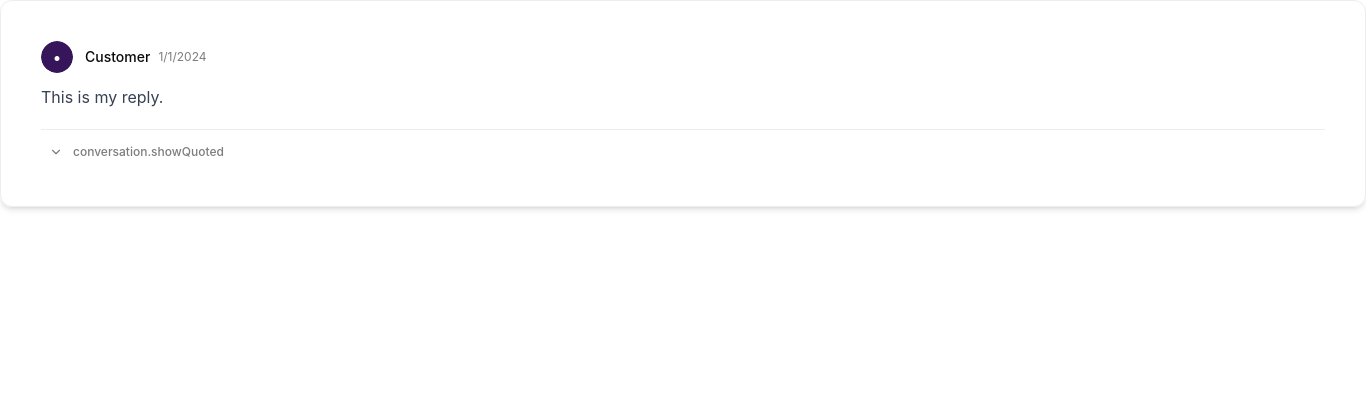
MessageItem - Quoted Text Collapse › toggle shows and hides quoted content
Expected: the text "original message" is not shown
# Click to show quoted content
Click the button "conversation.showQuoted": x=136, y=152 x1=41 y1=138 x2=232 y2=166
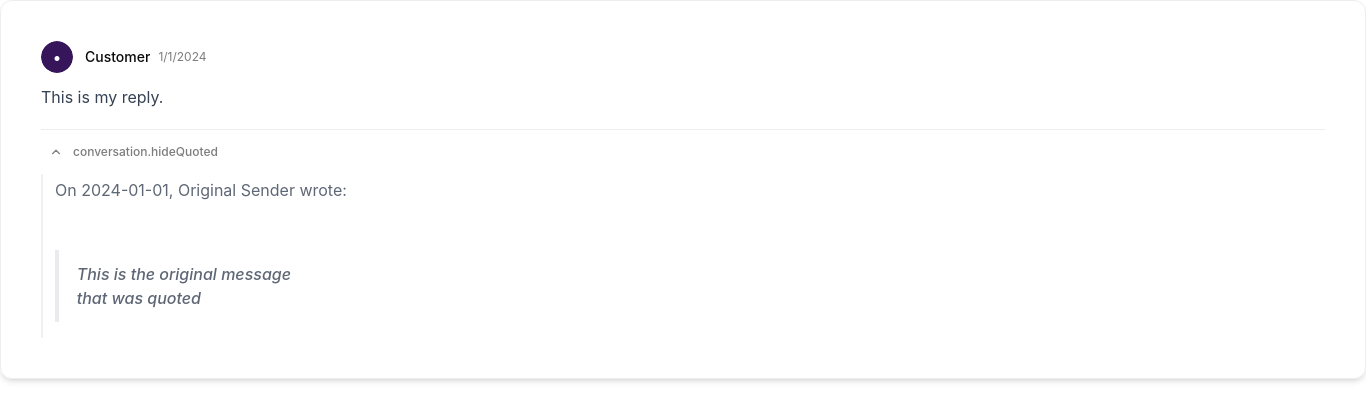
Expected: the button "conversation.hideQuoted" is shown
# Click again to hide
Click the button "conversation.hideQuoted": x=133, y=152 x1=41 y1=138 x2=226 y2=166
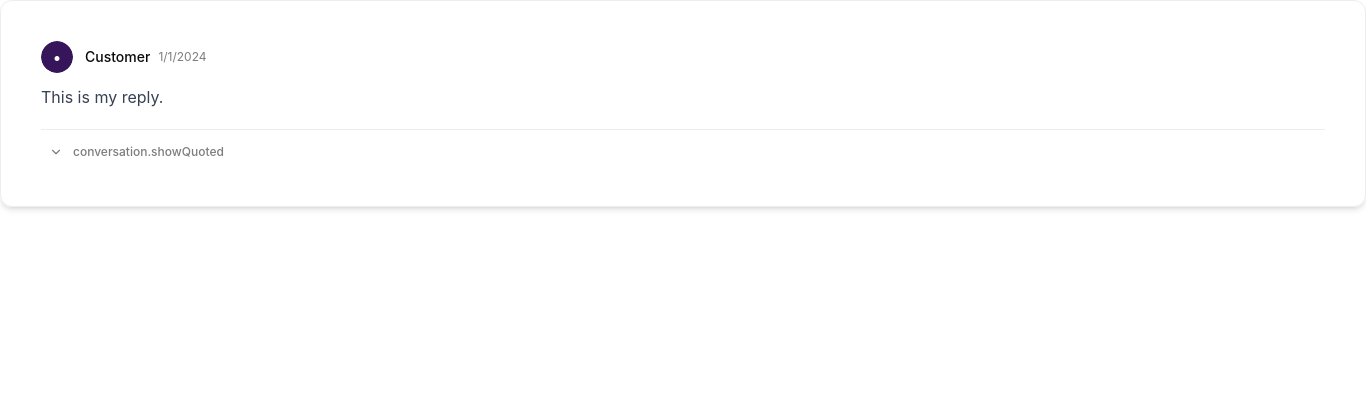
Expected: the button "conversation.showQuoted" is shown, x1=41 y1=138 x2=232 y2=166
